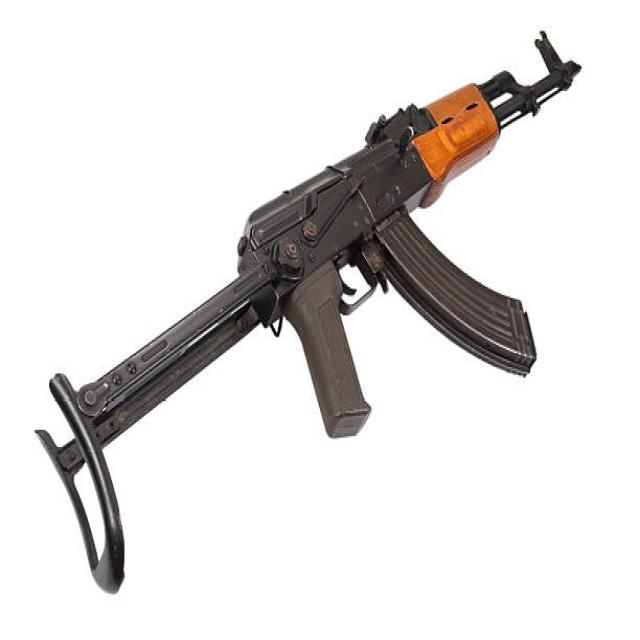rifle: (35, 25, 585, 607)
